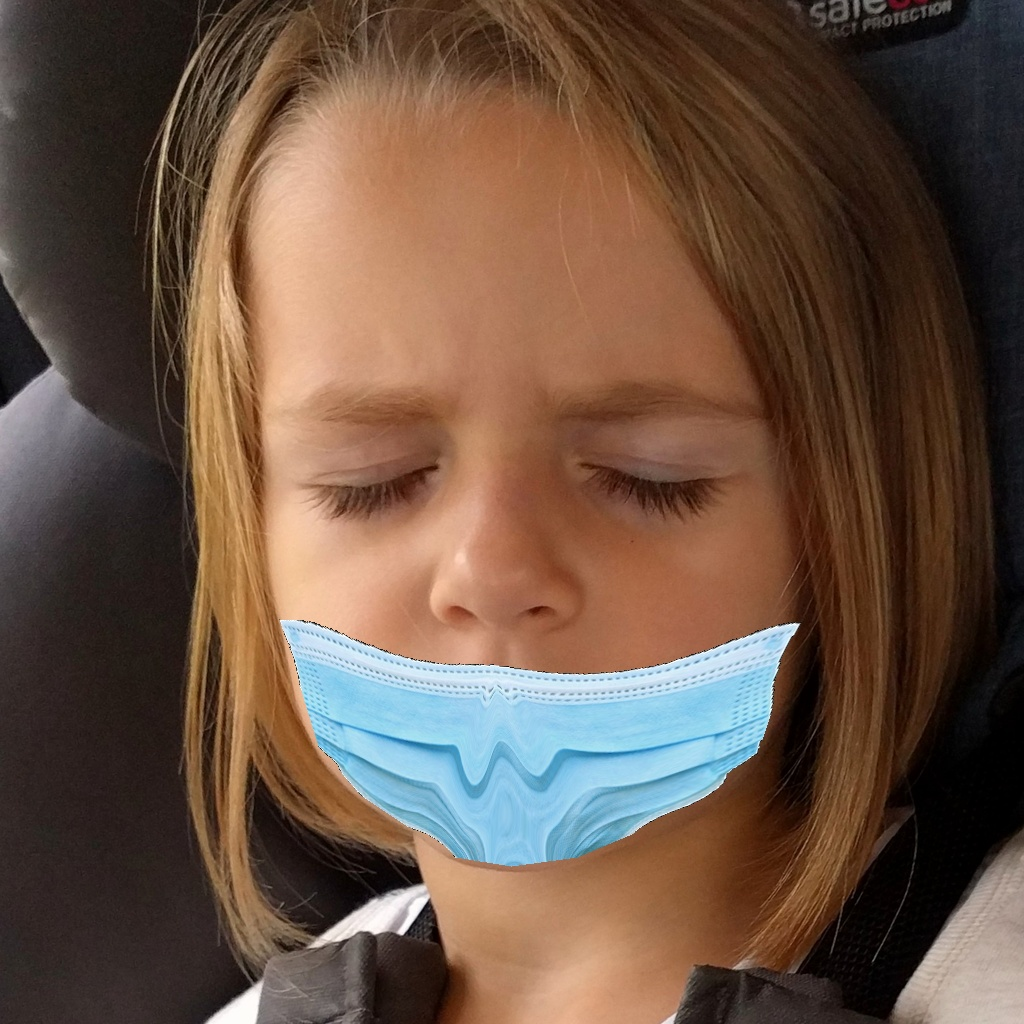mask_weared_incorrect: (228, 362, 852, 906)
